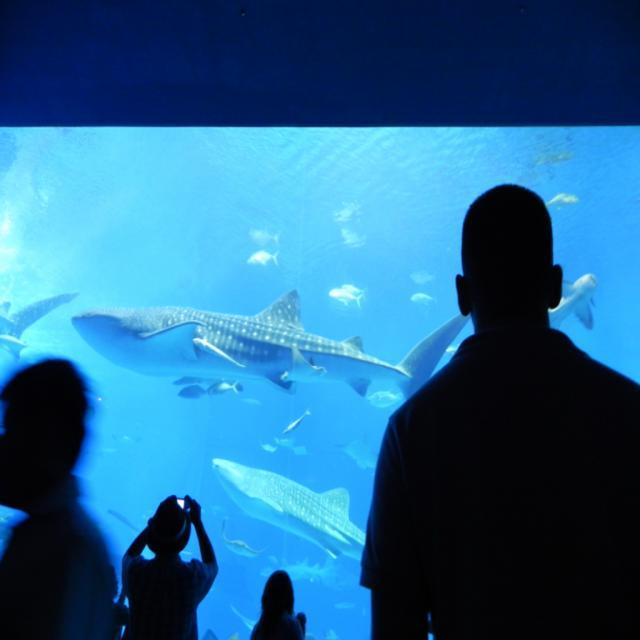Shark: (72, 286, 466, 376), (212, 448, 358, 556)
